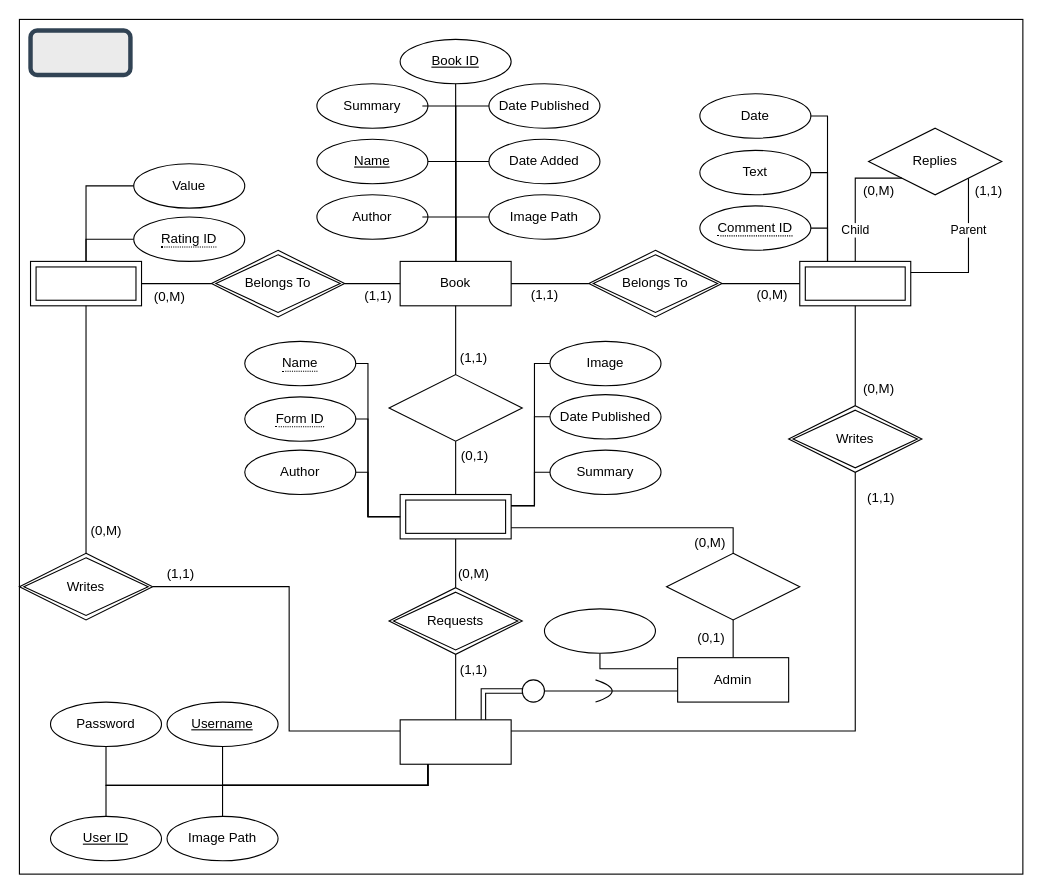
This 1042x894 diagram has some shape labels left out. Each missing label, with the centre of its shape:
Adds: (455,407)
Admin ID: (599,630)
Comment: (855,283)
Form: (455,516)
Look-Across Notation: (80,52)
Rating: (85,283)
Reviews: (732,586)
User: (455,741)
